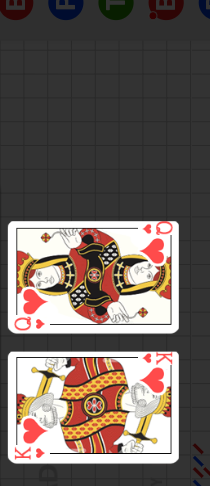9H: (141, 221, 175, 236)
KH: (13, 445, 47, 461)
